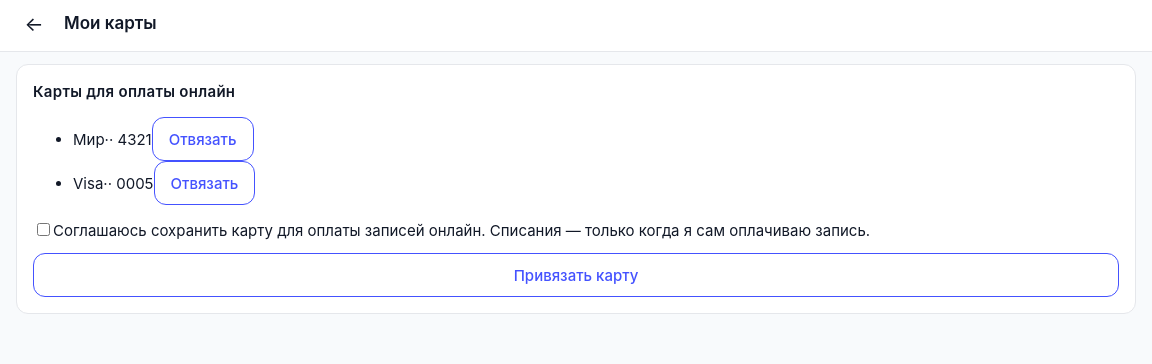
Test case: CustomerCardsScreen (live C7.2) › setup failure shows an honest error with the list intact
The width and height of the screenshot is (1152, 364).
Expected: the text "Мир" is shown, top-left (73, 130), bottom-right (105, 148)
Click the checkbox: point(44, 230) top-left (37, 223), bottom-right (50, 236)
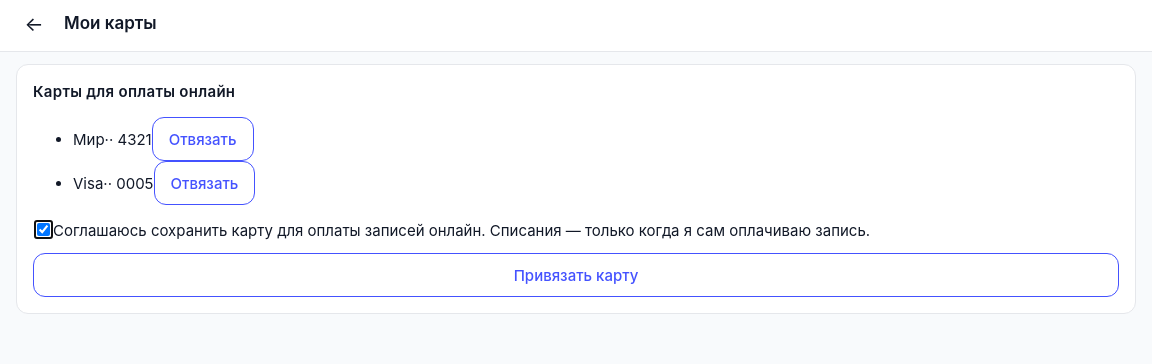
Click the button "Привязать карту": point(576, 275) top-left (33, 253), bottom-right (1119, 297)
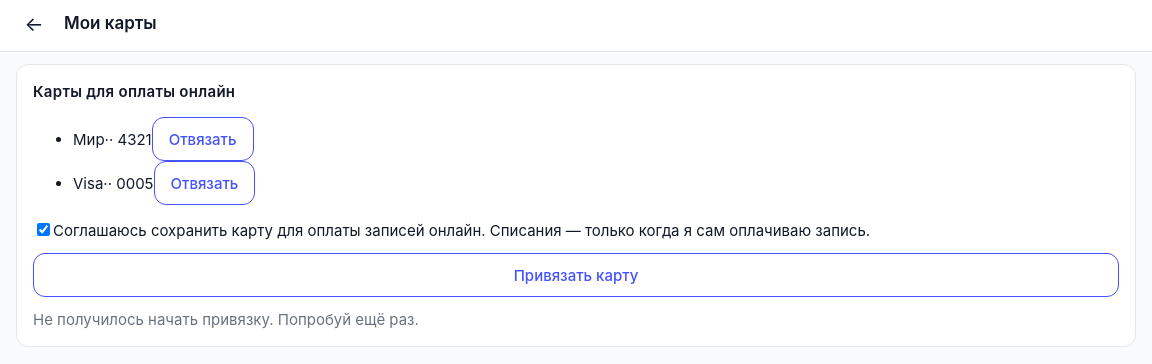
Expected: the text "Мир" is shown, top-left (73, 130), bottom-right (105, 148)
Result: the text "Не получилось начать привязку. Попробуй ещё раз." is shown at top-left (33, 310), bottom-right (419, 329)
